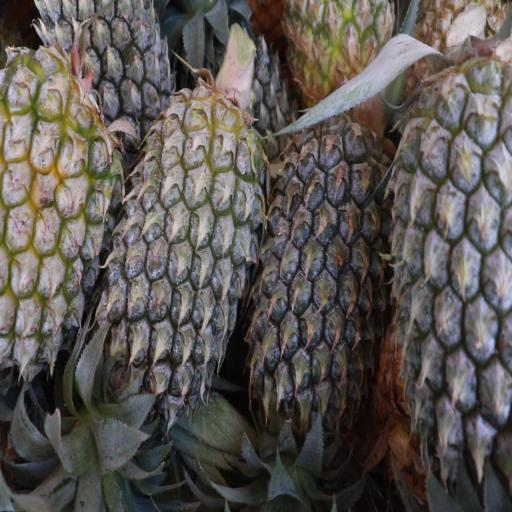------------------------------: (0, 56, 118, 351), (285, 0, 394, 113)
